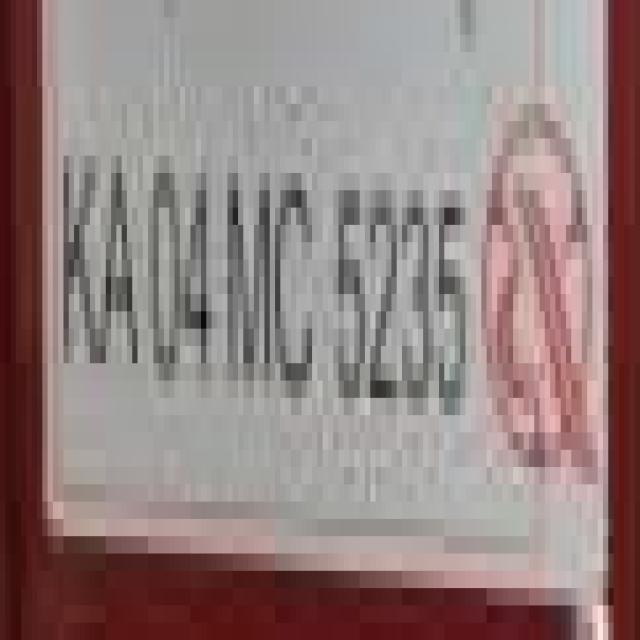license_plate: (10, 52, 592, 536)
